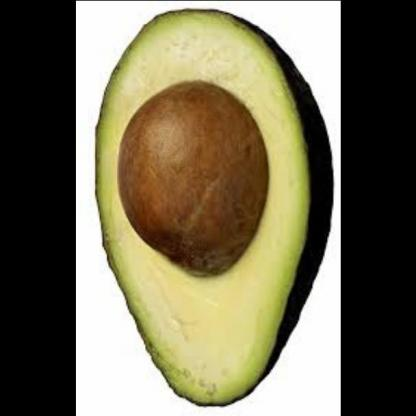avocado: (83, 5, 332, 412)
